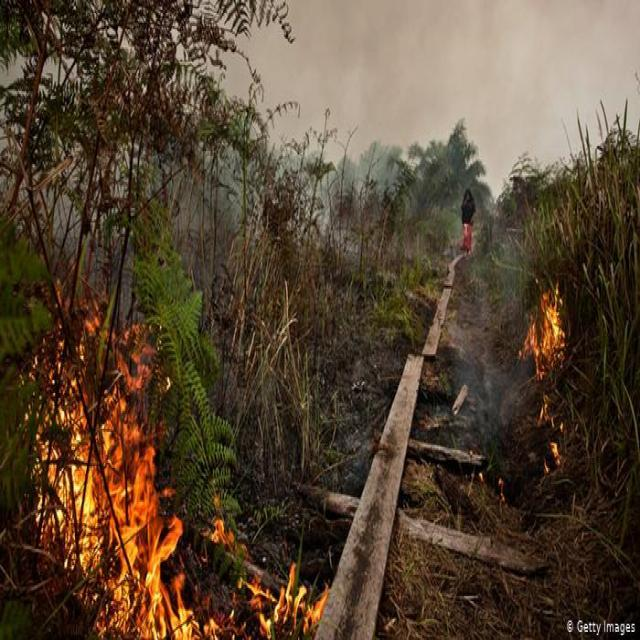Fire: (30, 318, 322, 640), (519, 285, 575, 381)
